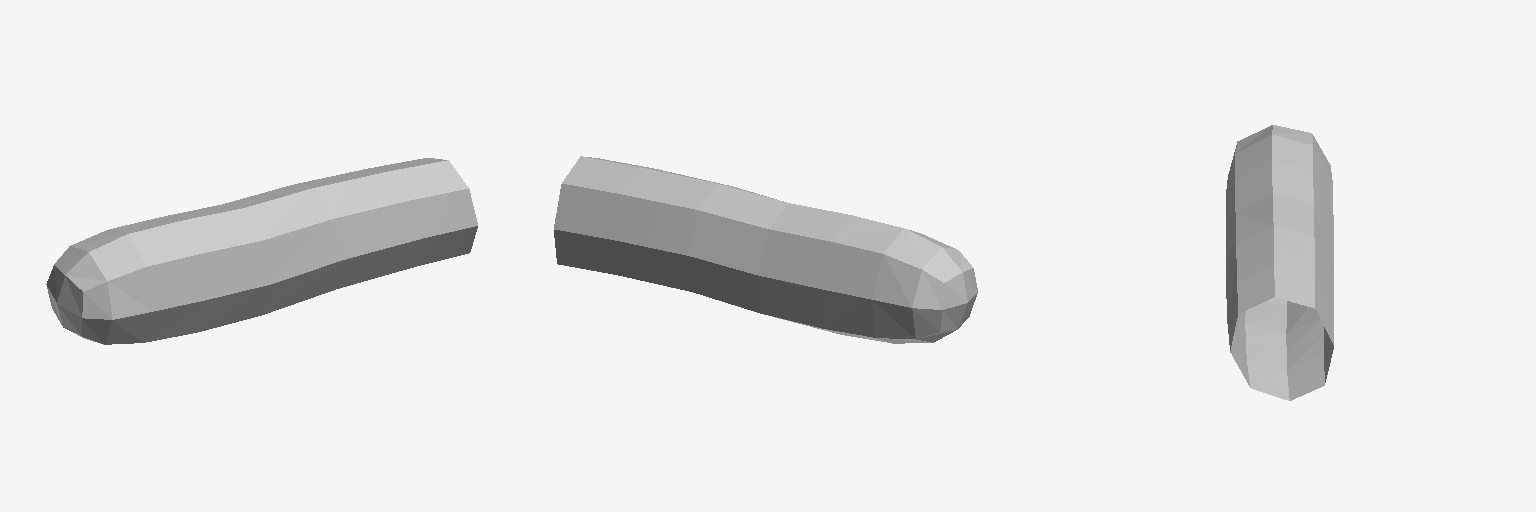
File: left_hand.obj
3 views of the same model, side by side, from view 1: azimuth 30°, elevation 25°; view 2: azimuth 150°, elevation 25°; view 3: azimuth 270°, elevation 25° (orthographic).
Visible parts, largest first — view 1: Stickman_Cube.002_Stickman_Cube.015; view 2: Stickman_Cube.002_Stickman_Cube.015; view 3: Stickman_Cube.002_Stickman_Cube.015.
Part boxes in pixels (left/top/right/bottom): Stickman_Cube.002_Stickman_Cube.015: left=46, top=158, right=477, bottom=344; Stickman_Cube.002_Stickman_Cube.015: left=554, top=156, right=977, bottom=343; Stickman_Cube.002_Stickman_Cube.015: left=1226, top=125, right=1333, bottom=400.
Bounding box in the file's own units: 1.64 × 0.4491 × 0.3854.